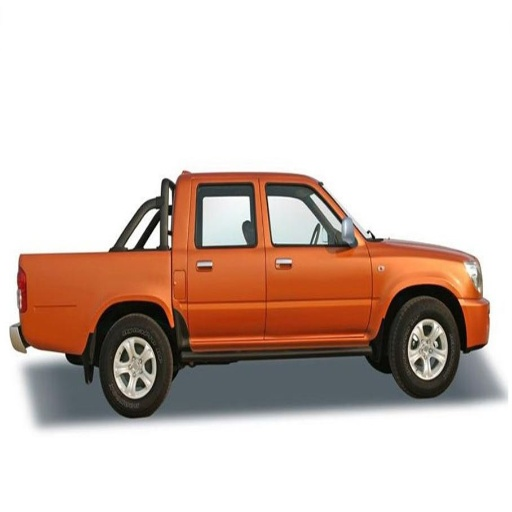back_left_light: (187, 176, 264, 338)
front_left_light: (262, 177, 372, 336)
tailgate: (27, 252, 183, 355)
trunk: (97, 314, 170, 417), (390, 298, 459, 397)
